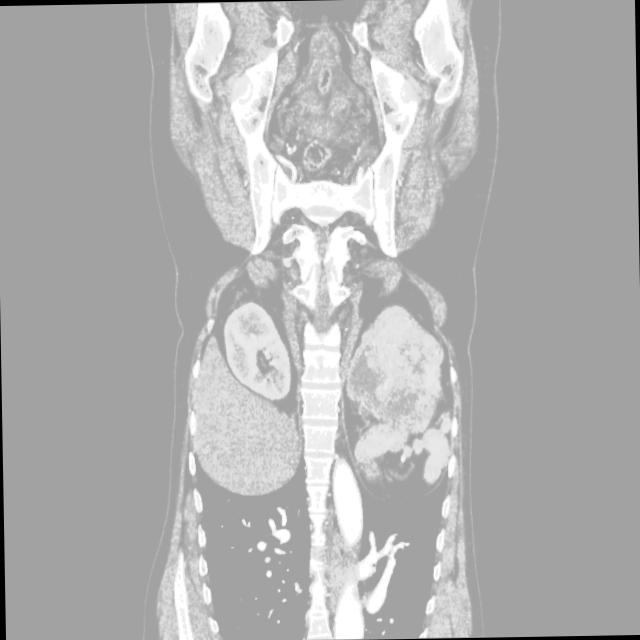TUMOR: (165, 289, 479, 464)
